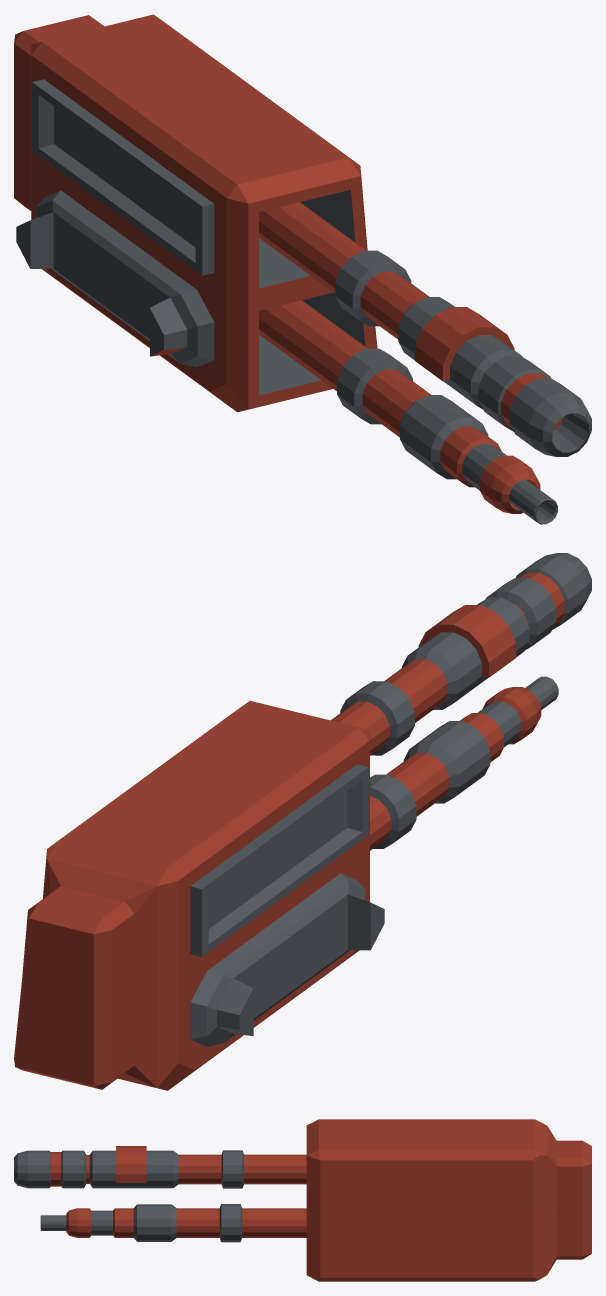
Rendered from Fighter_05_Artillery_Right_Red.fbx.
The picture shows the model from 3 angles, top to bottom: view 1: azimuth 30°, elevation 25°; view 2: azimuth 150°, elevation 25°; view 3: azimuth 270°, elevation 25°; orthographic projection. The views are drawn at different scales.
Visible parts, largest first — view 1: Fighter_05_Artillery_Right_Red; view 2: Fighter_05_Artillery_Right_Red; view 3: Fighter_05_Artillery_Right_Red.
Boxes of the visible parts, box(x1,y1,x2,y2) form: Fighter_05_Artillery_Right_Red: box(14, 14, 591, 524); Fighter_05_Artillery_Right_Red: box(14, 553, 591, 1090); Fighter_05_Artillery_Right_Red: box(14, 1119, 591, 1281).
Size of the model in its own units: 155 by 175 by 726.
2 materials, 2 textured.
